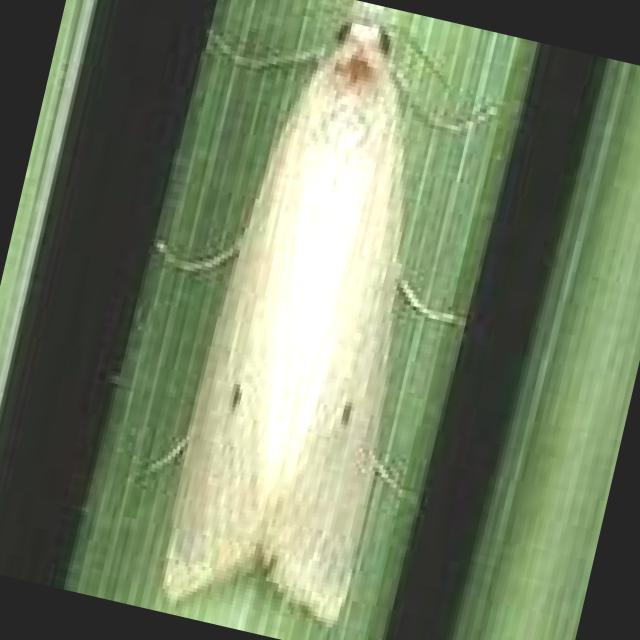stem borer: (156, 23, 502, 624)
